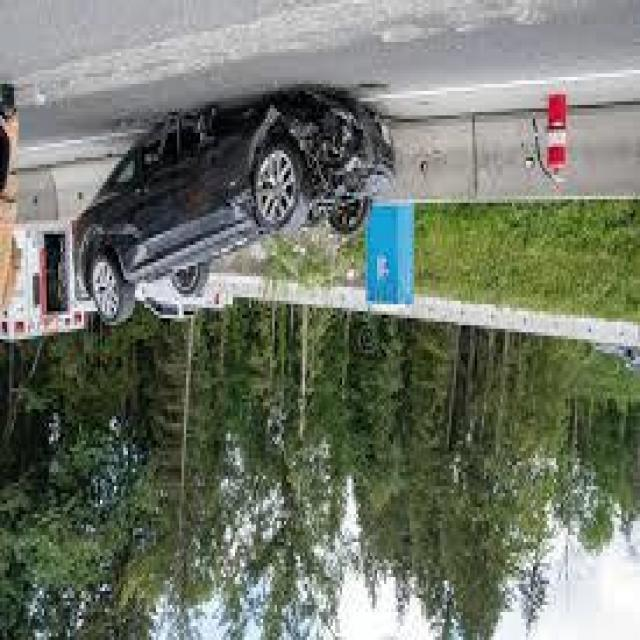severe: (73, 89, 397, 334)
